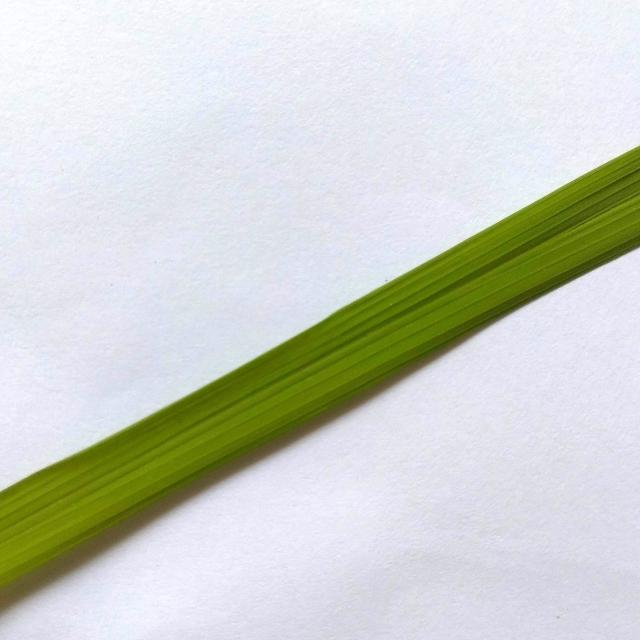Rice_Healthy: (0, 147, 640, 586)
